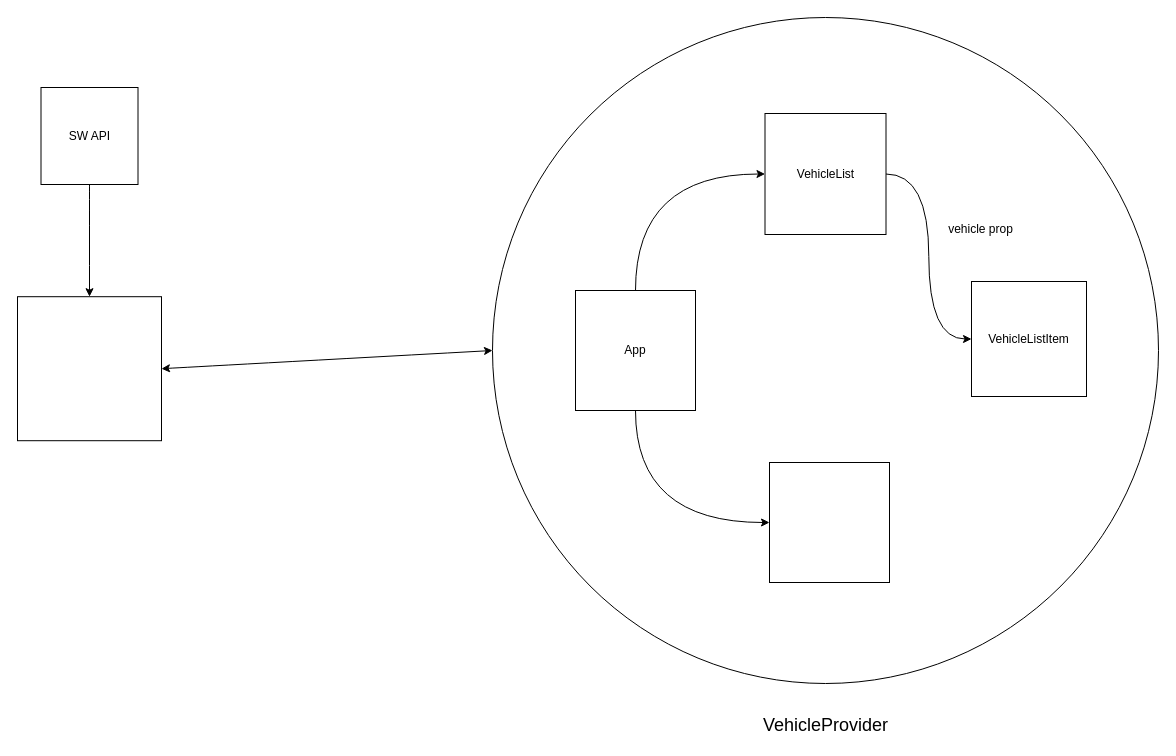
The diagram is 1176 pixels wide and 756 high, and some of its shapes have lost their labels. Each missing label, with the centre of its shape:
"FilmDetails" goes at pixel 829 522.
"VehiclesContext" goes at pixel 89 368.
